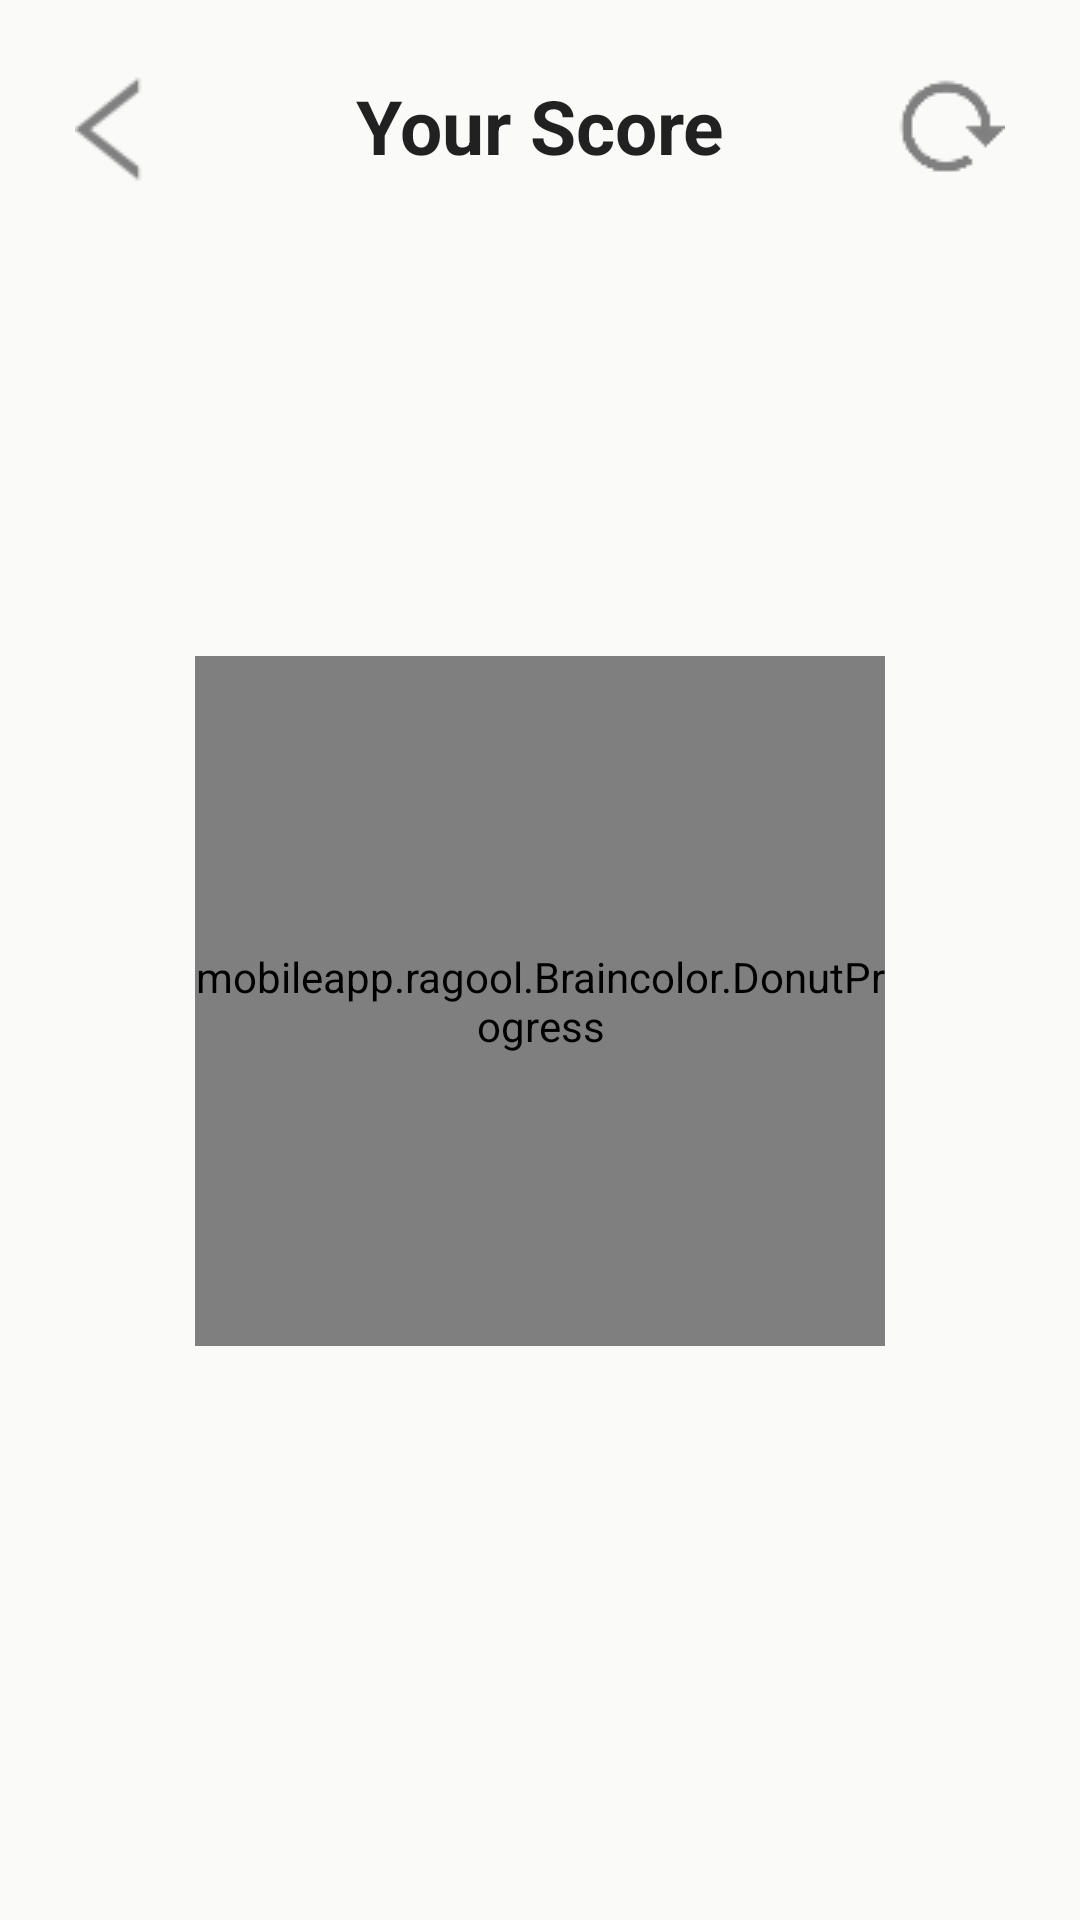

Where to tap for icons on this 1080w x 1920h app screen, as (x,y):
back: (107,129)
replay: (953,126)
